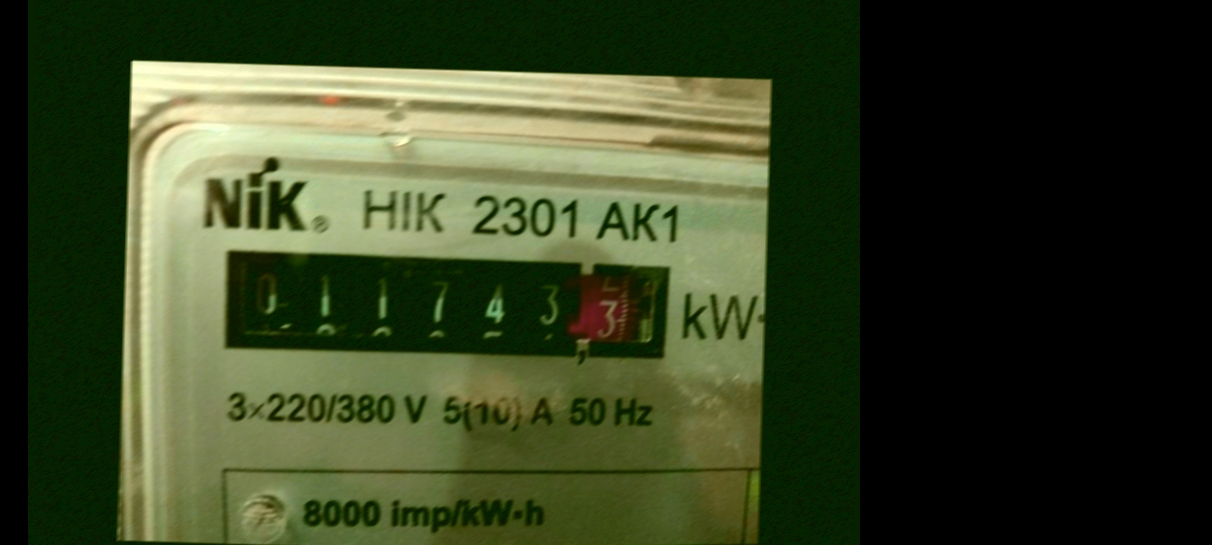0: (250, 268, 281, 315)
1: (370, 272, 393, 321), (315, 270, 334, 319)
3: (534, 279, 563, 327), (594, 295, 619, 339)
4: (480, 276, 509, 325)
7: (426, 276, 451, 324)
screen: (207, 238, 676, 370)
